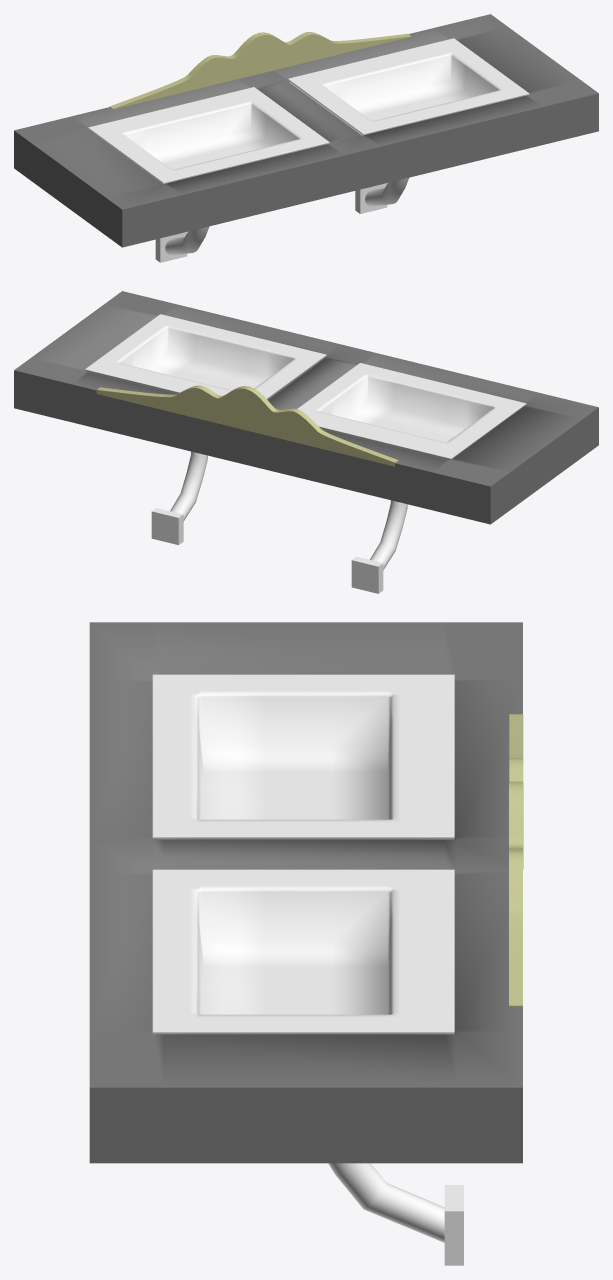
File: lavamanos_conjunto.FBX
3 views of the same model, one above another, from view 1: azimuth 30°, elevation 25°; view 2: azimuth 150°, elevation 25°; view 3: azimuth 270°, elevation 25° (orthographic). The views are drawn at different scales.
Parts seen in each view (by area): view 1: posamanos; view 2: posamanos; view 3: posamanos.
Boxes of the visible parts, x1,y1,x2,y2 form: posamanos: (14, 14, 598, 262); posamanos: (14, 291, 598, 593); posamanos: (89, 622, 523, 1265).
Bounding box in the file's own units: 393 × 155 × 148.
